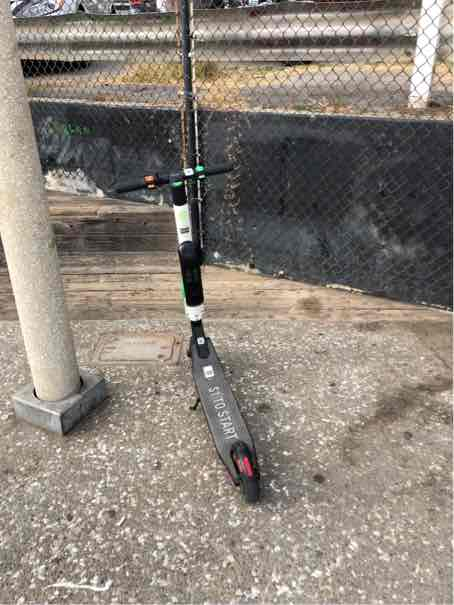scooter: (117, 156, 282, 499)
